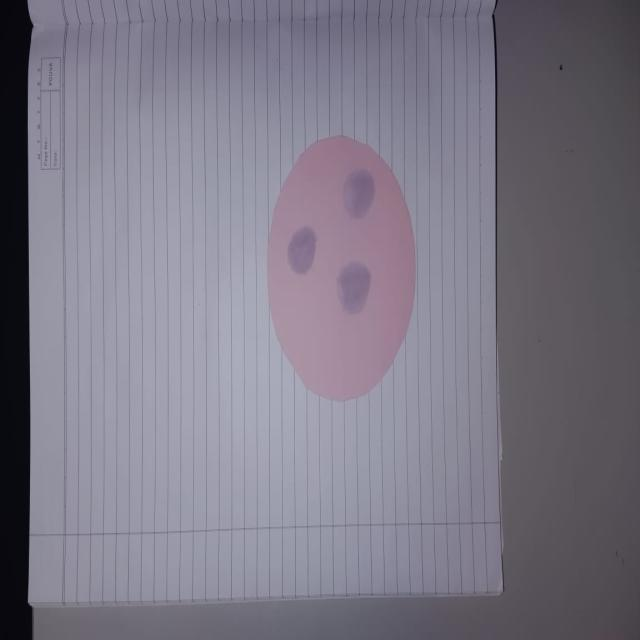BlueColor: (338, 261, 371, 314), (344, 169, 374, 218), (288, 226, 316, 274)
